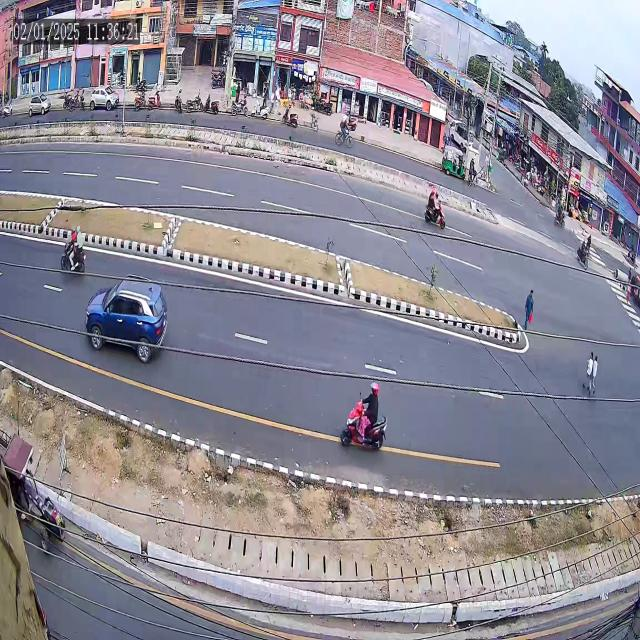car: (84, 252, 172, 372)
motorcycle: (337, 368, 389, 466), (52, 210, 87, 281), (421, 180, 453, 248)
